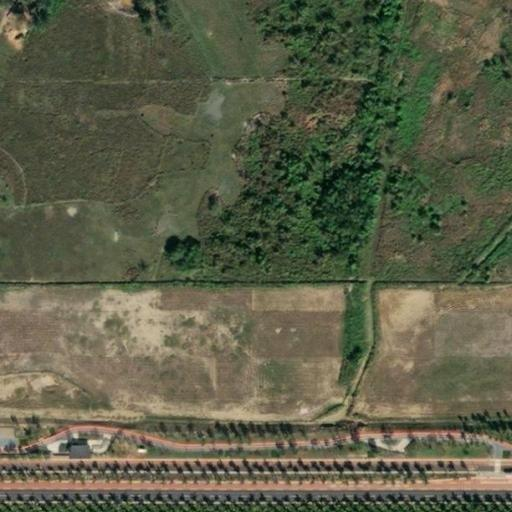building: (64, 446, 86, 459)
